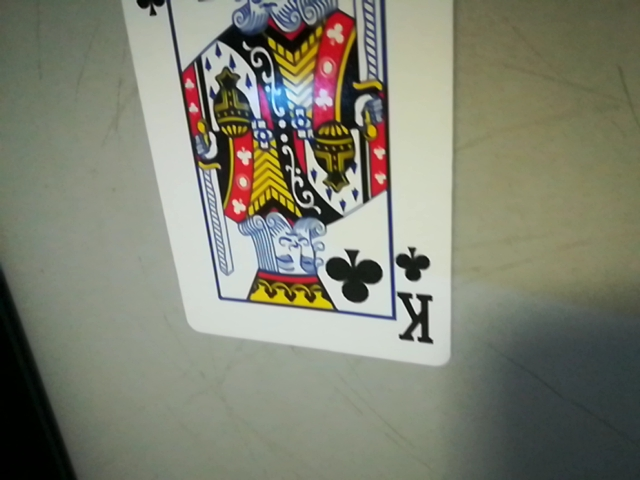mh k: (386, 239, 443, 358)
